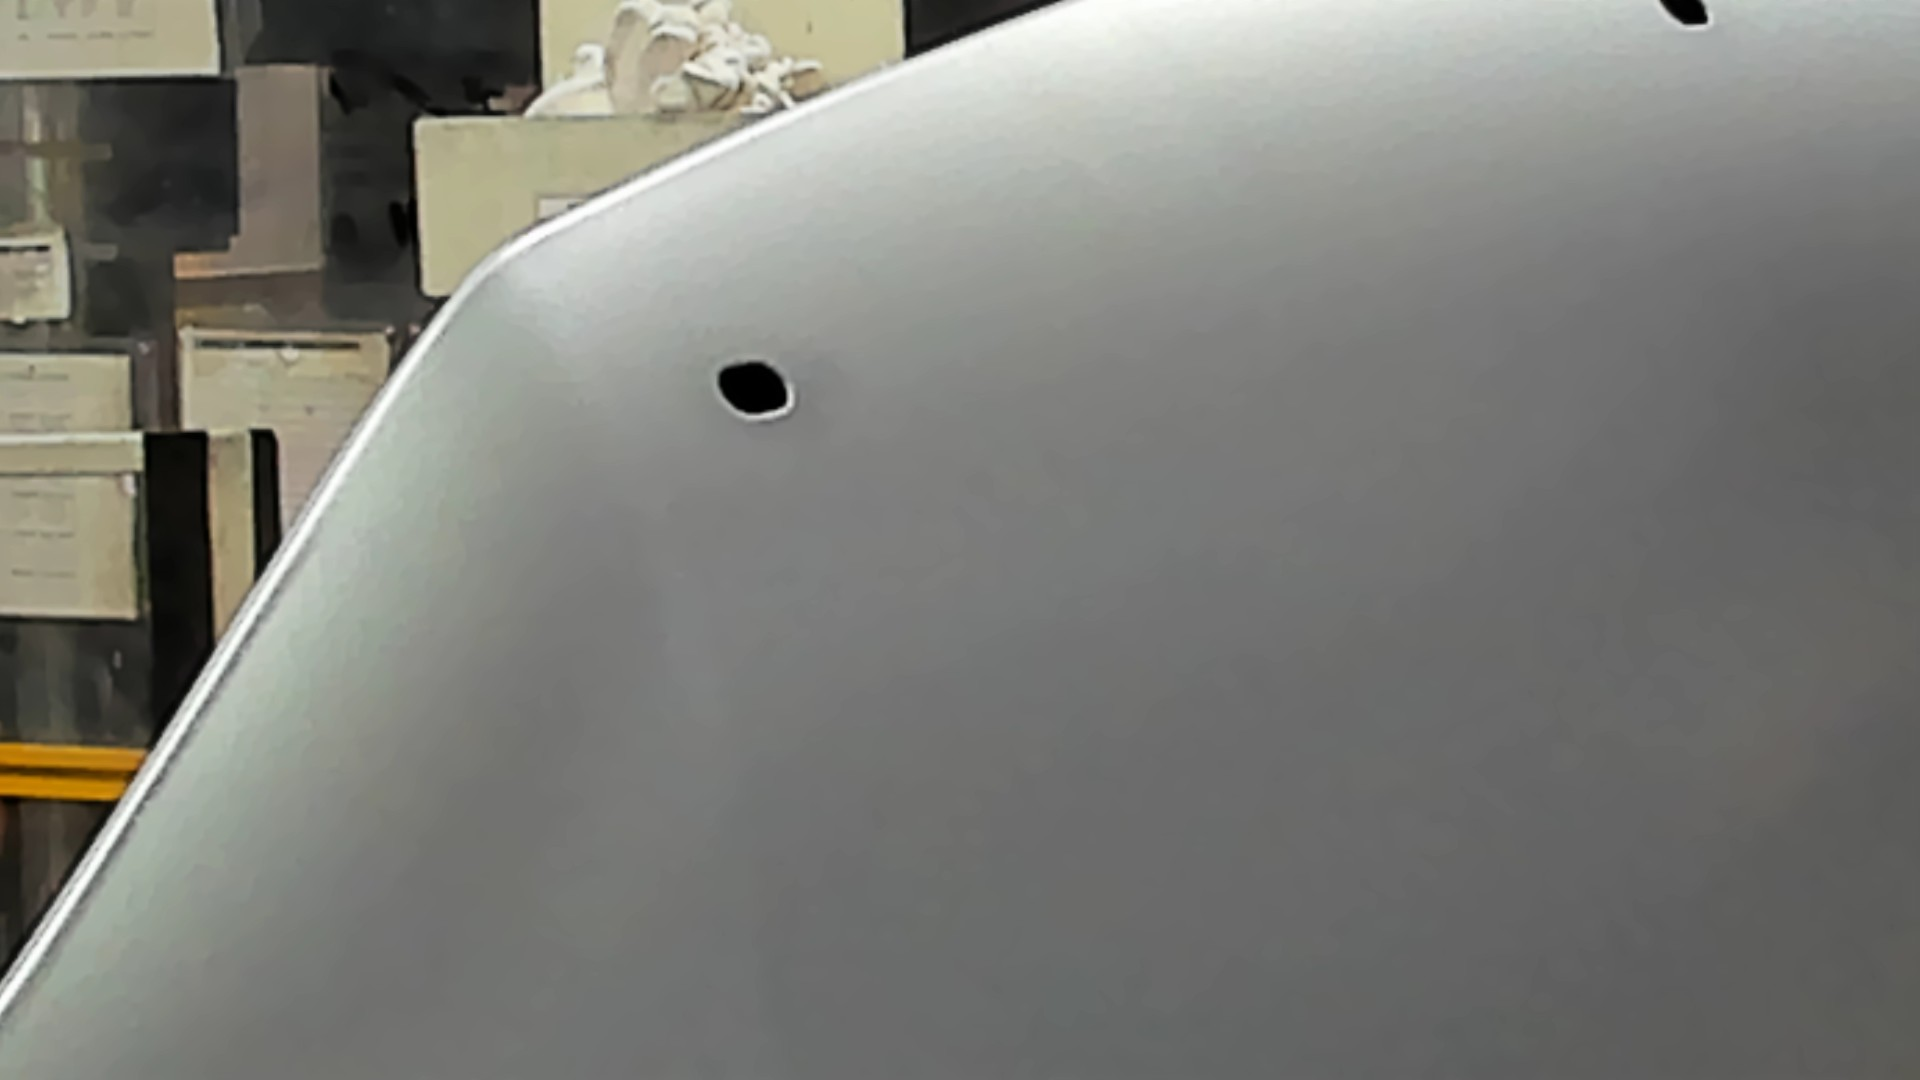amorfo: (707, 353, 800, 427), (1647, 1, 1716, 33)
